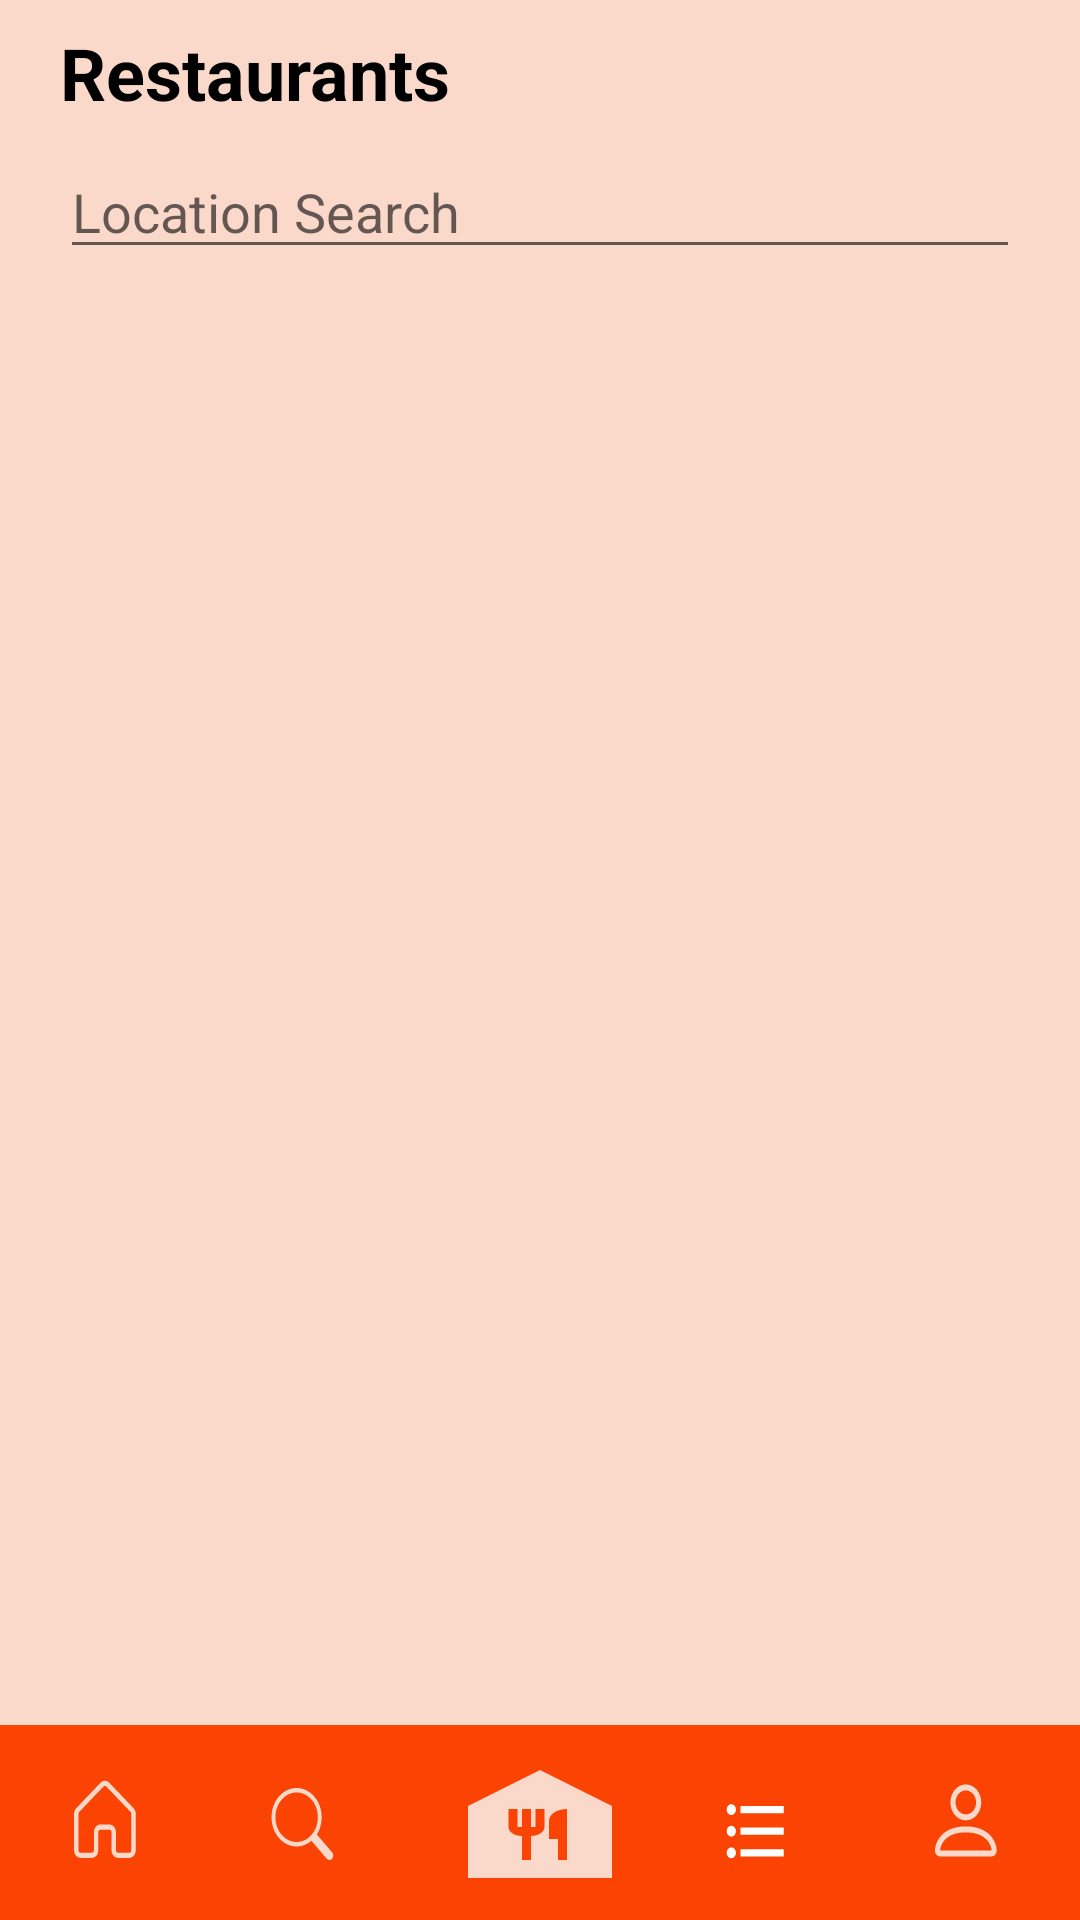

Screen size 1080x1920. Icon name, then its center in pixels as [x,y]:
food: [540,1824]
home: [105,1819]
orders: [755,1831]
search: [302,1824]
user: [966,1820]
